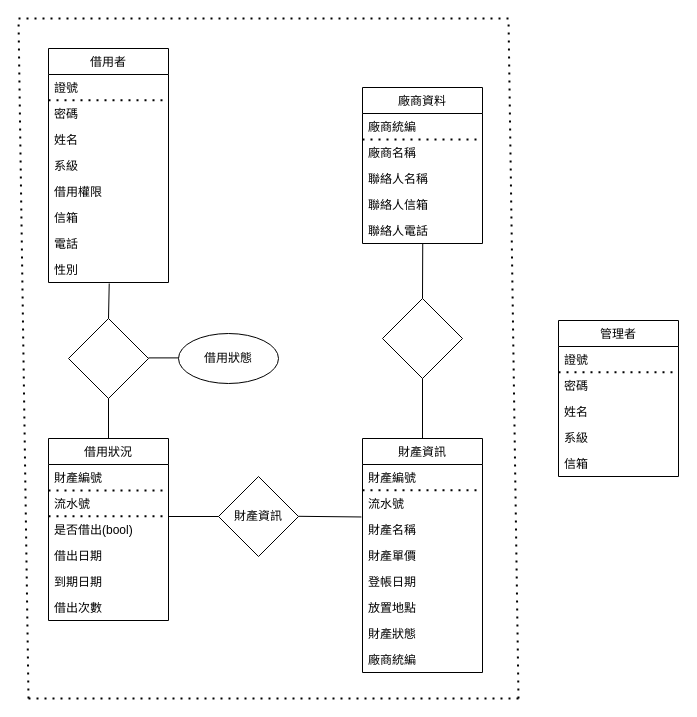
Image size: 697x717. Some labels were removed from this diagram. Here are the shapes that lost their labels. From the top down, the centre of each, then its label:
(x=108, y=358): 借用
(x=422, y=338): 廠商資訊
